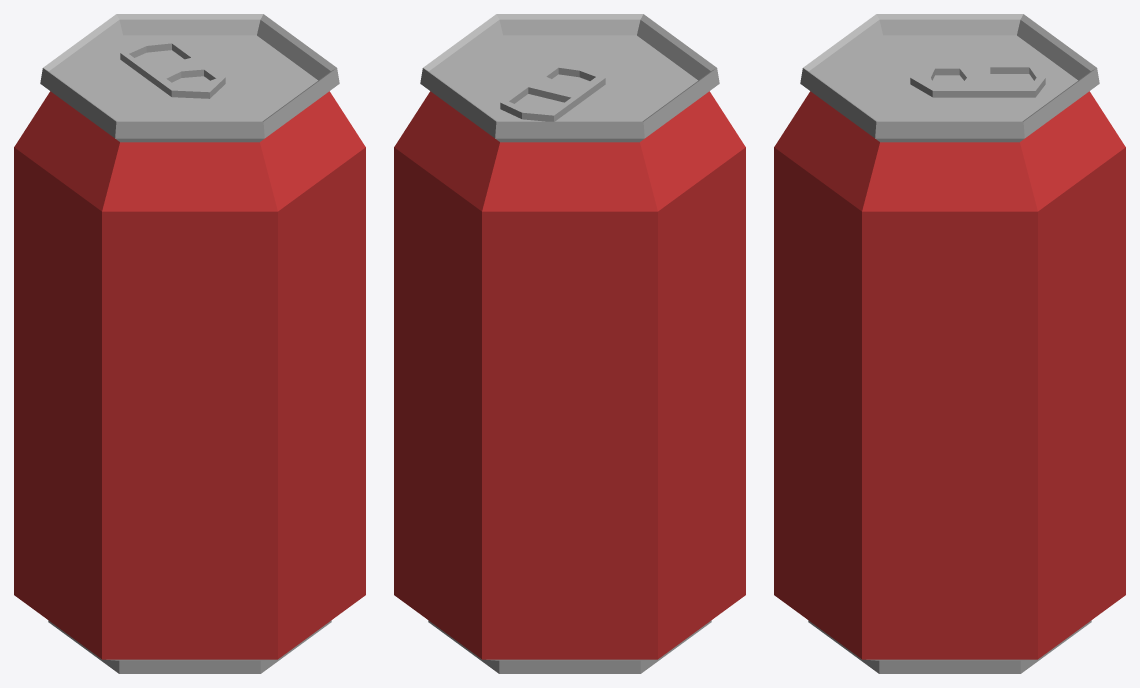
Rendered from BeverageCan1Red.fbx.
3 renders of one model, left to right at view 1: azimuth 30°, elevation 25°; view 2: azimuth 150°, elevation 25°; view 3: azimuth 270°, elevation 25°, orthographic.
Visible parts, largest first — view 1: Cylinder; view 2: Cylinder; view 3: Cylinder.
Part boxes in pixels (x1,y1,x2,y2): Cylinder: [14, 14, 365, 673]; Cylinder: [394, 14, 745, 673]; Cylinder: [774, 14, 1125, 673].
Bounding box in the file's own units: 0.1364 × 0.2738 × 0.1575.
